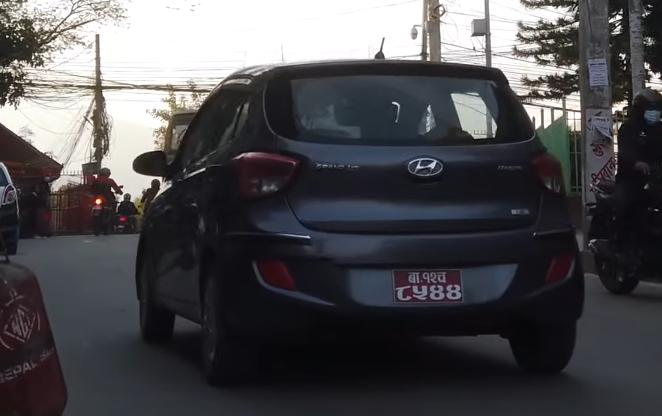car: (113, 61, 591, 378)
